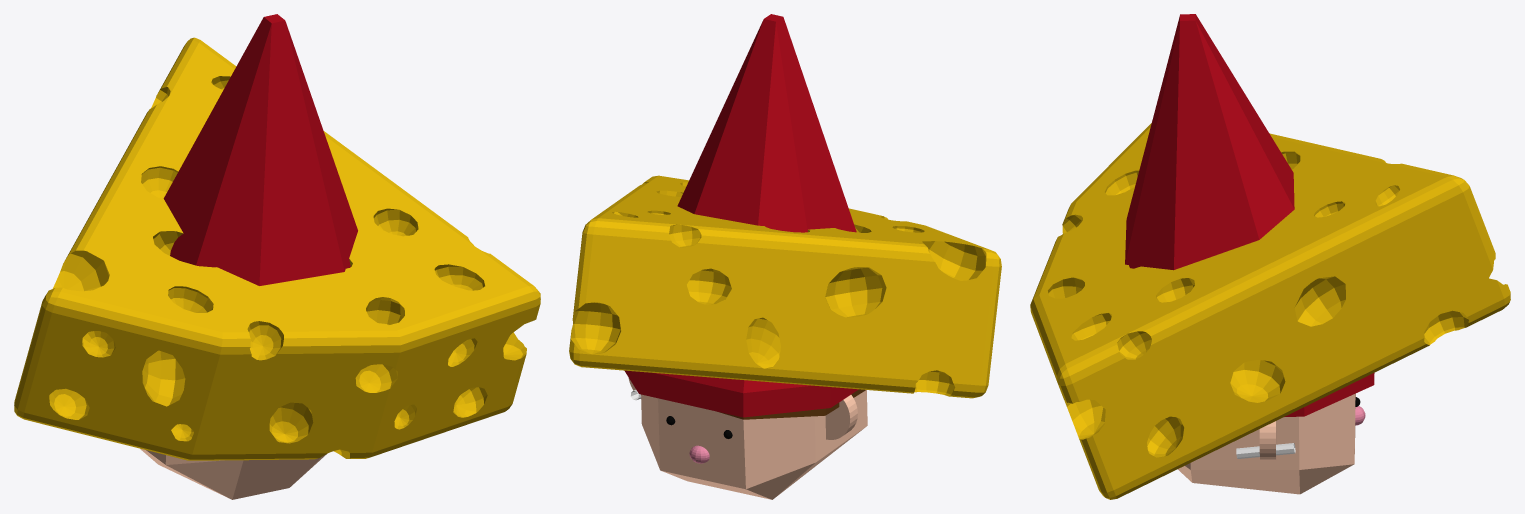
File: eri.glb
3 views of the same model, side by side, from view 1: azimuth 30°, elevation 25°; view 2: azimuth 150°, elevation 25°; view 3: azimuth 270°, elevation 25° (orthographic). The views are drawn at different scales.
Visible parts, largest first — view 1: cheese, hat, head; view 2: cheese, hat, head, earL, hair; view 3: cheese, hat, head, earR.
Part boxes in pixels (x1,y1,x2,y2): cheese: [14, 37, 540, 460]; hat: [163, 14, 357, 285]; head: [140, 448, 326, 499]; cheese: [569, 175, 1001, 398]; hat: [624, 14, 858, 417]; head: [641, 390, 867, 499]; earL: [825, 395, 857, 439]; hair: [717, 389, 865, 419]; cheese: [1030, 123, 1510, 499]; hat: [1125, 14, 1374, 416]; head: [1177, 393, 1355, 494]; earR: [1259, 421, 1276, 460].
Size of the model in its own units: 0.8427 by 0.855 by 0.8096.
